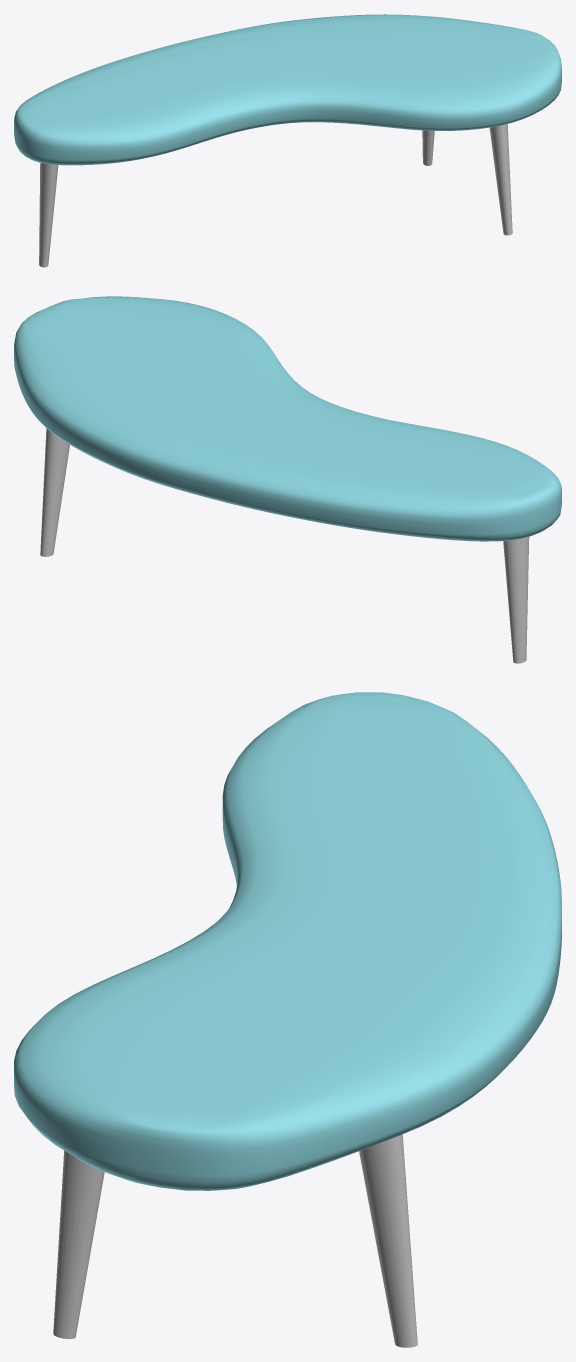
Rendered from LobbyTable.fbx.
3 renders of one model, top to bottom at view 1: azimuth 30°, elevation 25°; view 2: azimuth 150°, elevation 25°; view 3: azimuth 270°, elevation 25°, orthographic. The views are drawn at different scales.
Visible parts, largest first — view 1: Table; view 2: Table; view 3: Table.
Part boxes in pixels (x1=…): Table: x1=14, y1=14, x2=561, y2=267; Table: x1=14, y1=296, x2=561, y2=663; Table: x1=14, y1=692, x2=561, y2=1347.
Bounding box in the file's own units: 37.92 × 11.13 × 19.73.
